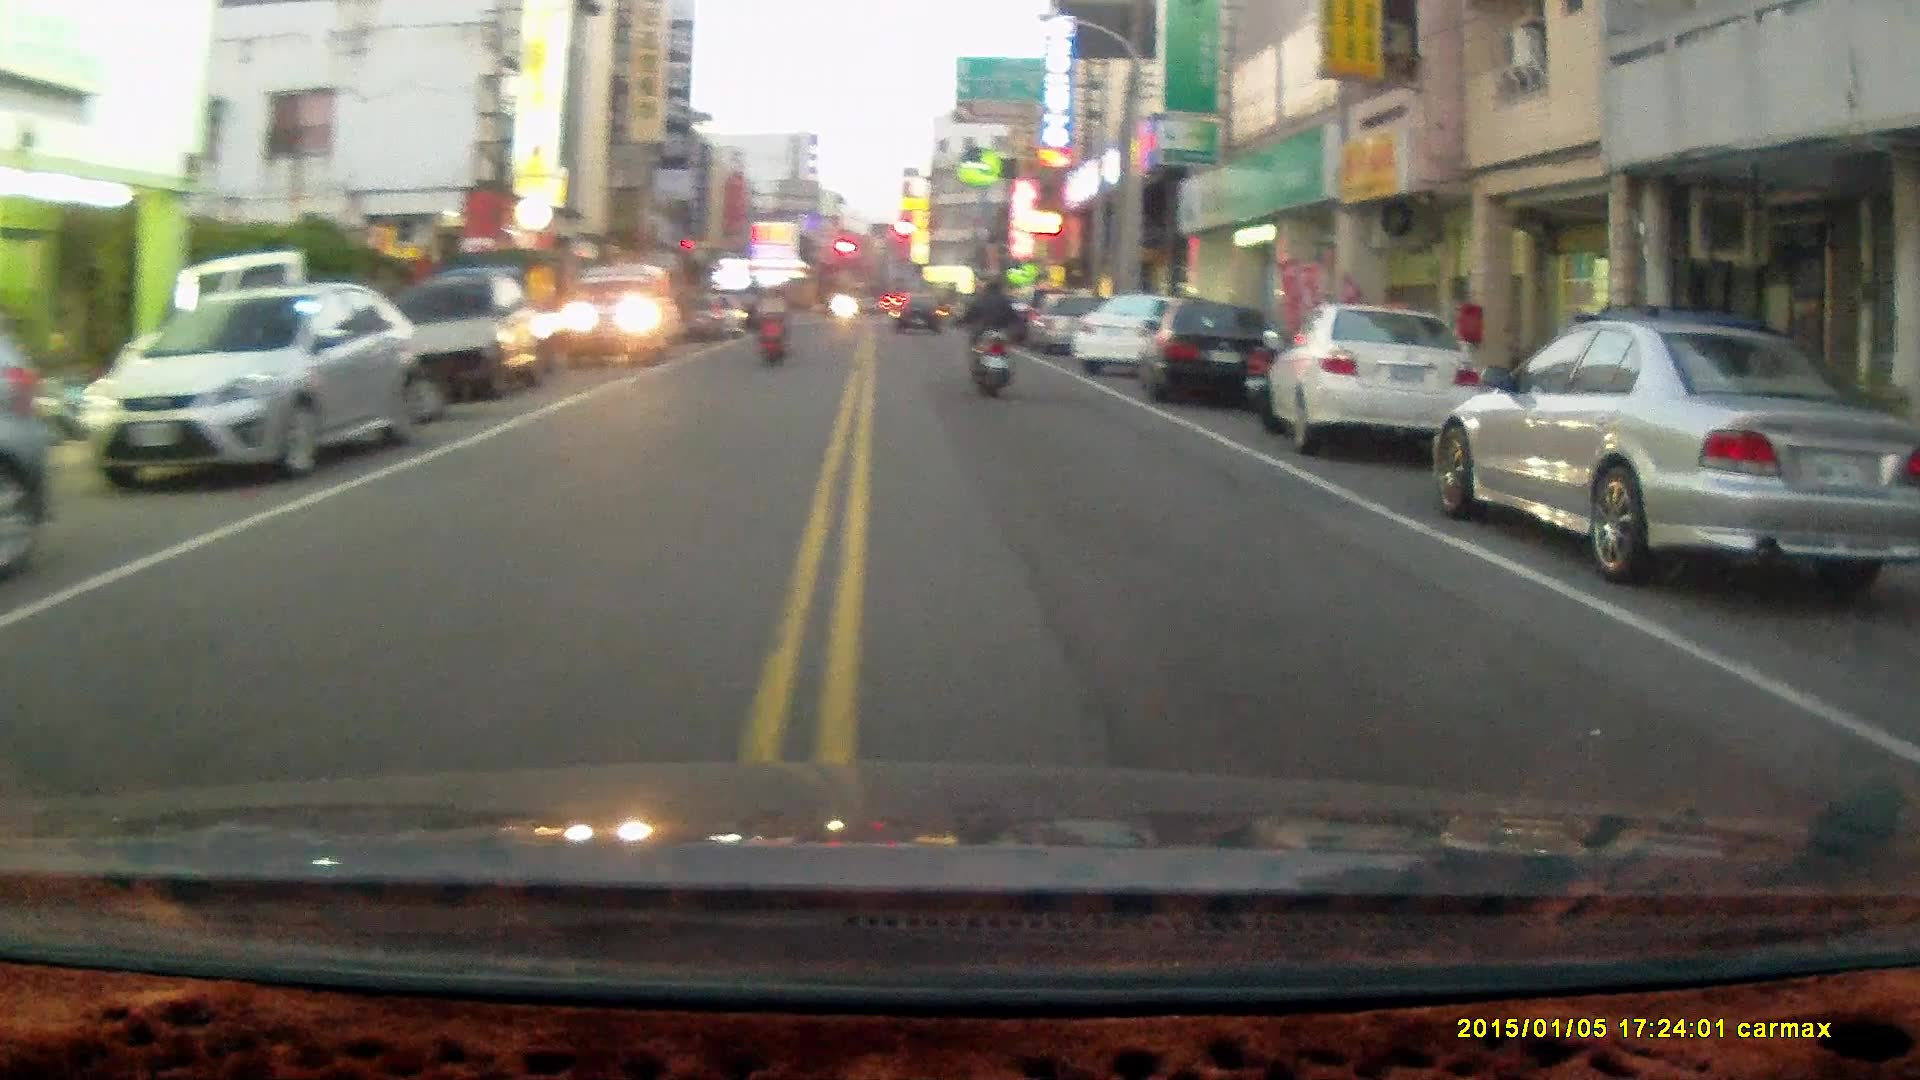rider: (959, 270, 1012, 397), (754, 284, 790, 366)
vehicle: (1440, 316, 1911, 592), (83, 282, 423, 484), (1256, 303, 1490, 455), (392, 270, 538, 405), (1143, 296, 1280, 408), (561, 260, 677, 368), (1068, 290, 1204, 375)
